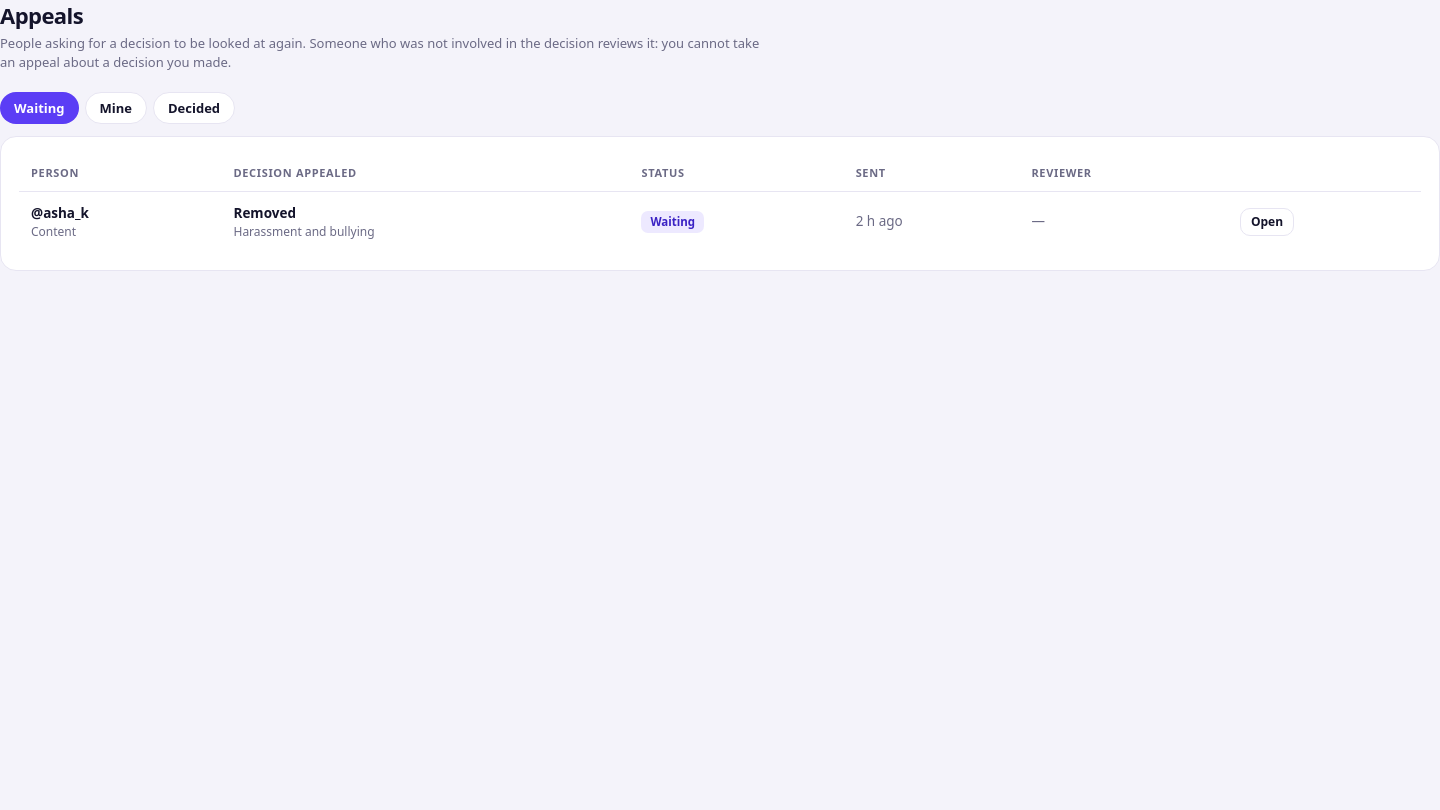
Test: one appeal › shows no way in for someone who only reads
Click the button with aria-label "Open appeal from asha_k" at (1267, 222), box x1=1240 y1=208 x2=1294 y2=236
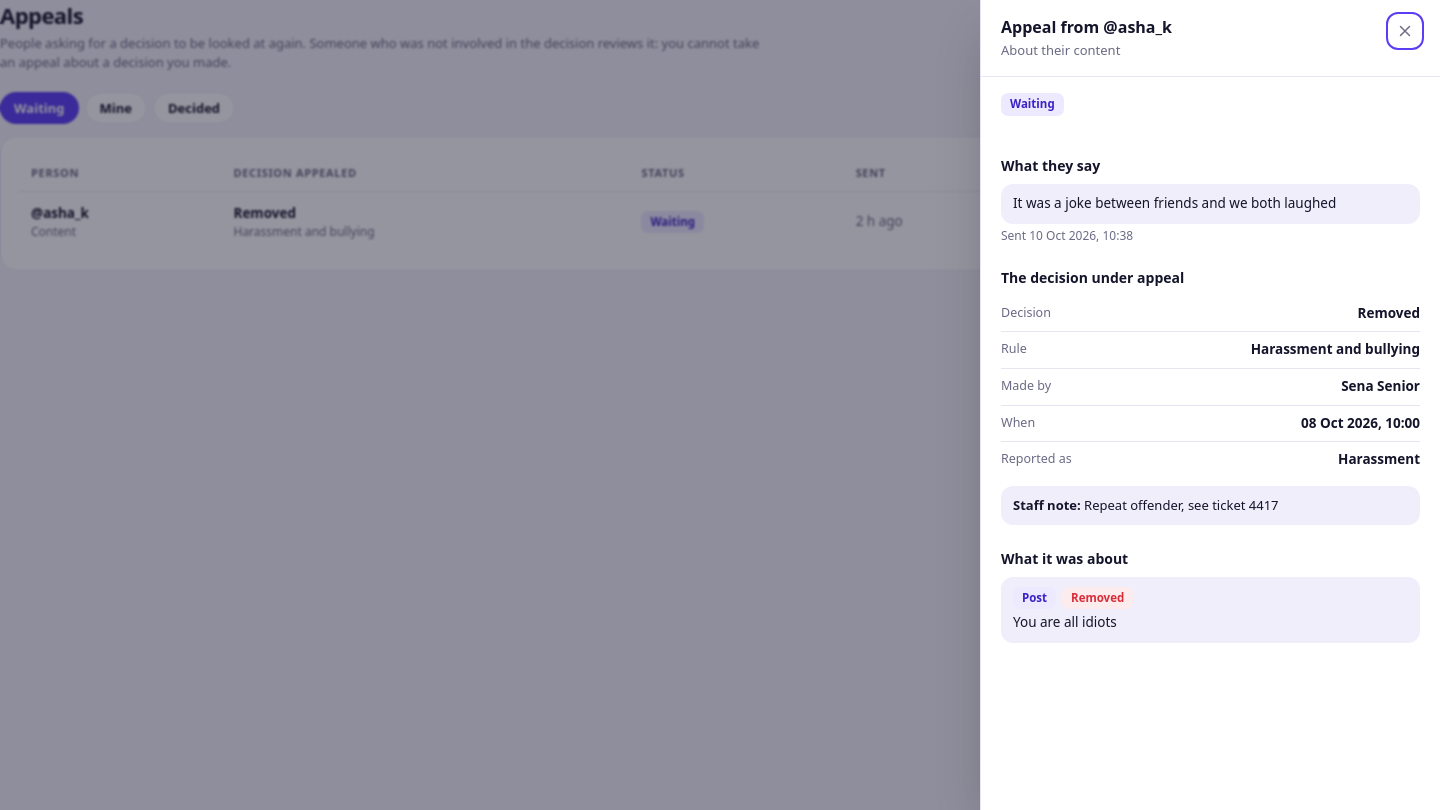
Result: the dialog "Appeal from @asha_k" is shown at x1=980 y1=0 x2=1439 y2=809
